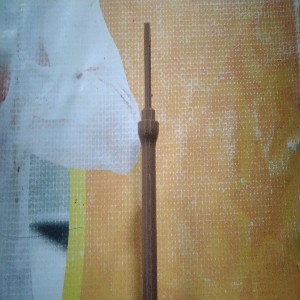obeng: (136, 21, 160, 300)
